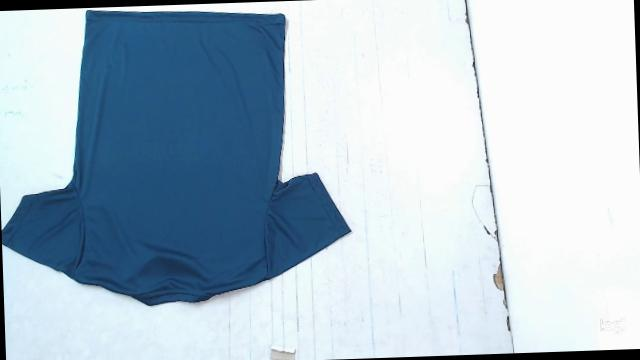new-garment: (2, 11, 350, 305)
